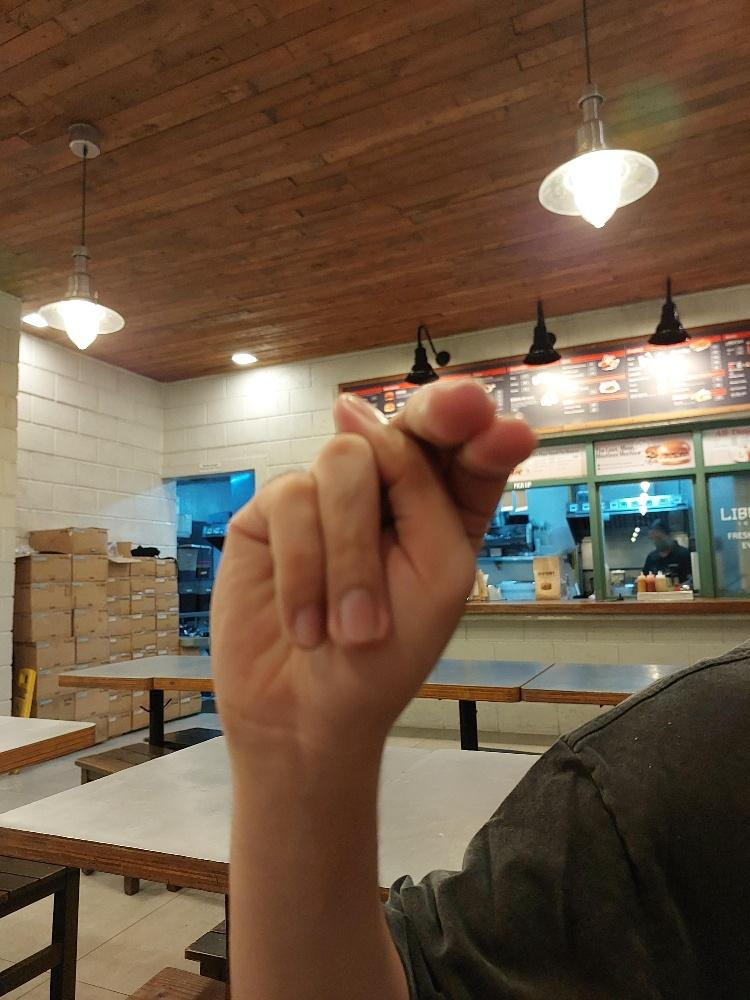n: (206, 376, 540, 750)
